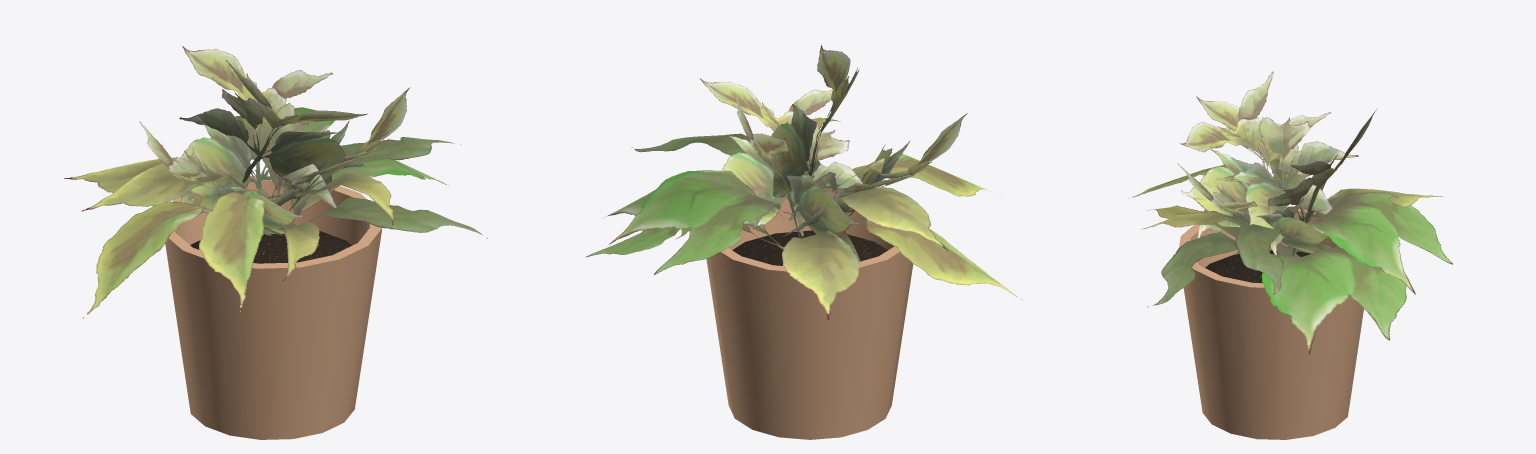
Rendered from MOD_plant_3.fbx.
3 renders of one model, left to right at view 1: azimuth 30°, elevation 25°; view 2: azimuth 150°, elevation 25°; view 3: azimuth 270°, elevation 25°, orthographic. The views are drawn at different scales.
Parts seen in each view (by area): view 1: plant_2; view 2: plant_2; view 3: plant_2.
Part boxes in pixels (left/top/right/bottom): plant_2: left=64, top=46, right=487, bottom=439; plant_2: left=586, top=45, right=1022, bottom=439; plant_2: left=1128, top=71, right=1452, bottom=439.
Size of the model in its own units: 0.6795 by 0.5953 by 0.6916.
